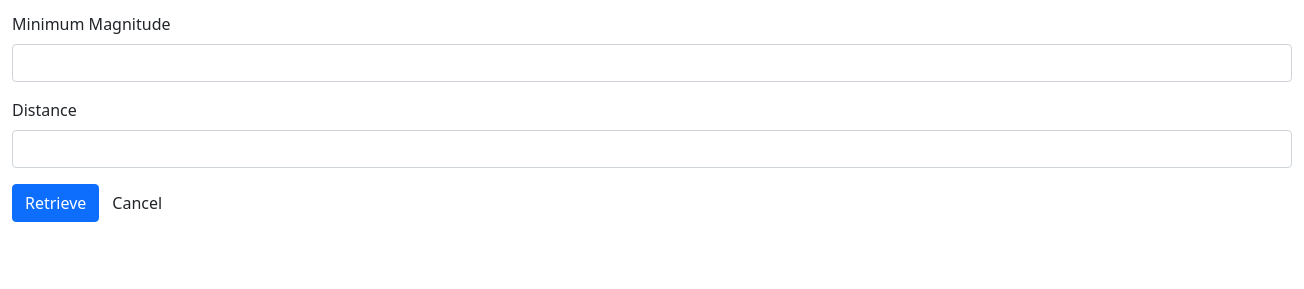
Test: EarthquakesForm tests › Correct Error messages on bad input
Type "bad-input" into the field with test id "EarthquakesForm-minMag" at (652, 63), box [12,44,1292,82]
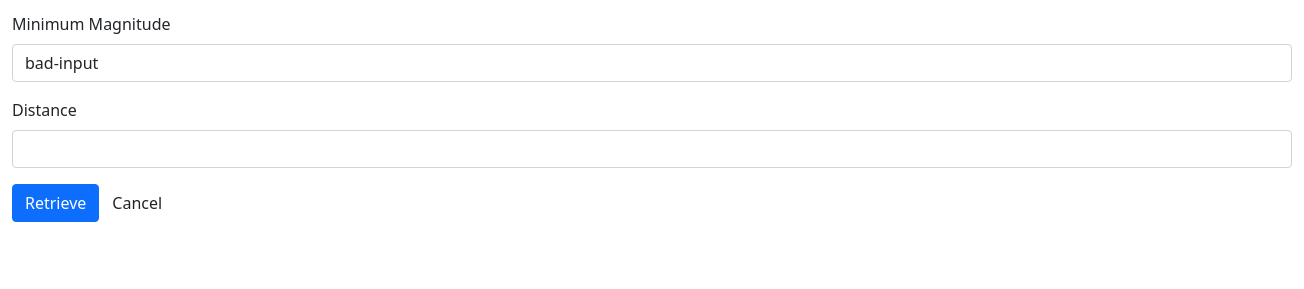
Type "bad-input" into the field with test id "EarthquakesForm-dist" at (652, 149), box [12,130,1292,168]
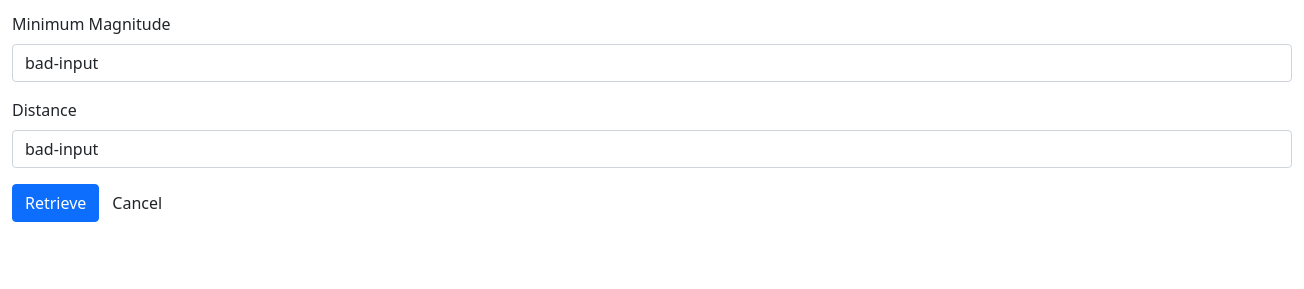
Click the button with test id "EarthquakesForm-submit" at (56, 203), box [12,184,99,222]
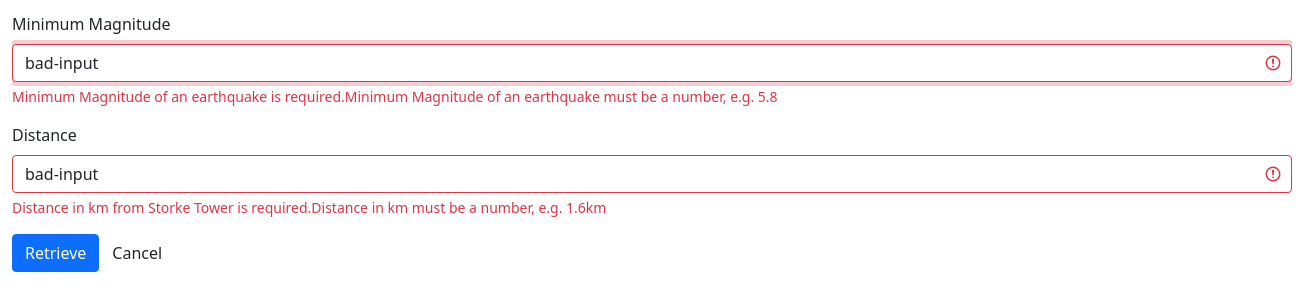
Now the text "Minimum Magnitude of an earthquake must be a number, e.g. 5.8" is shown, box [345,87,778,106]
Now the text "Distance in km must be a number, e.g. 1.6km" is shown, box [311,198,606,217]
